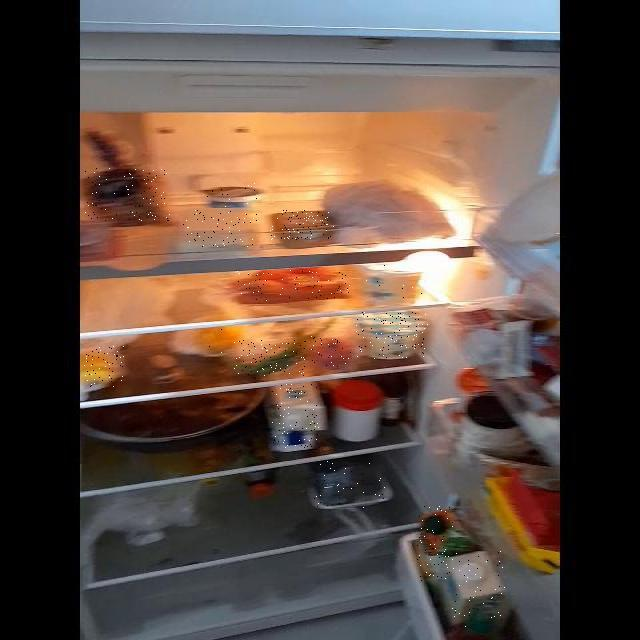bread: (85, 168, 171, 222)
broccoli: (311, 461, 388, 508)
butter: (270, 210, 334, 240)
carrot: (234, 270, 350, 301)
cheese: (183, 210, 257, 247)
green chilies: (234, 340, 306, 376)
juice: (417, 505, 455, 582)
lemon: (195, 320, 244, 355), (83, 346, 124, 387)
milk: (451, 551, 505, 630), (272, 384, 321, 451)
tomato: (311, 336, 352, 367)
yoghurt: (355, 312, 428, 359), (360, 263, 425, 301), (205, 183, 263, 207)
